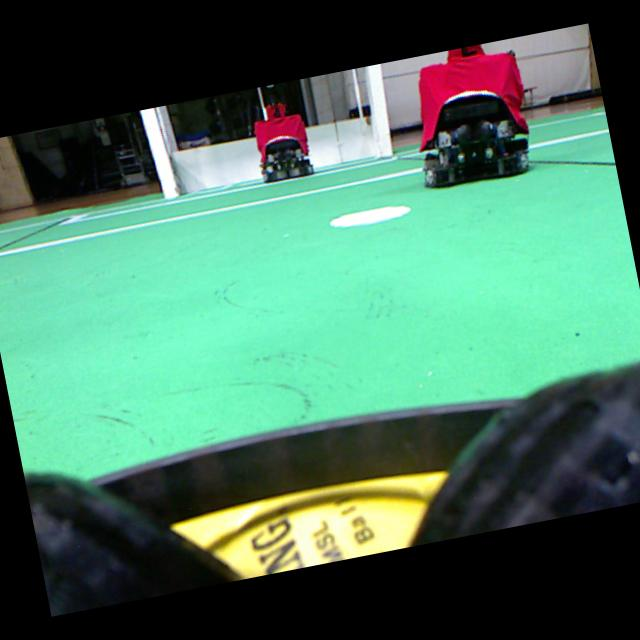goal: (140, 108, 178, 198), (365, 64, 392, 157)
